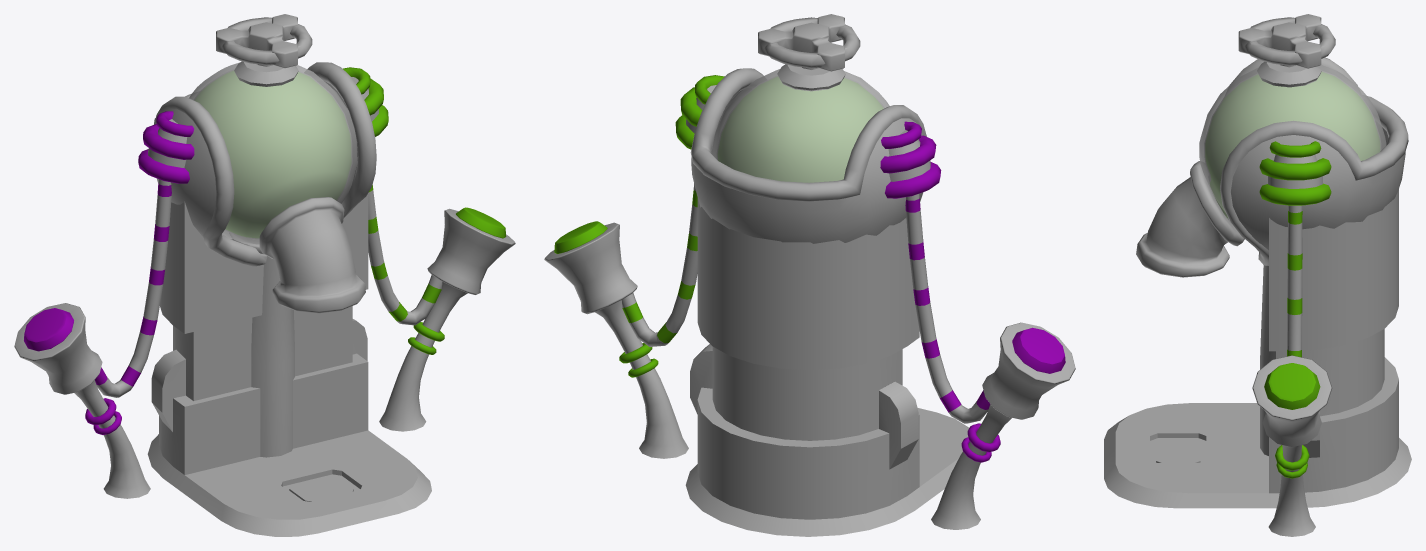
File: Env_Props_FlorpFiller_CW.fbx
3 views of the same model, side by side, from view 1: azimuth 30°, elevation 25°; view 2: azimuth 150°, elevation 25°; view 3: azimuth 270°, elevation 25° (orthographic). The views are drawn at different scales.
Parts seen in each view (by area): view 1: Props_FlorpFiller_Base, Props_FlorpFiller_Florp_Tank, Props_FlorpFiller_Button_Panel_B, Props_FlorpFiller_Button_Panel_A, Props_FlorpFiller_Valve, Props_FlorpFiller_Button_Cable_A, Props_FlorpFiller_Button_Cable_B, Props_FlorpFiller_Button_A, Props_FlorpFiller_Button_B; view 2: Props_FlorpFiller_Base, Props_FlorpFiller_Florp_Tank, Props_FlorpFiller_Button_Panel_B, Props_FlorpFiller_Button_Panel_A, Props_FlorpFiller_Valve, Props_FlorpFiller_Button_Cable_A, Props_FlorpFiller_Button_Cable_B, Props_FlorpFiller_Button_A, Props_FlorpFiller_Button_B; view 3: Props_FlorpFiller_Base, Props_FlorpFiller_Florp_Tank, Props_FlorpFiller_Button_Panel_B, Props_FlorpFiller_Valve, Props_FlorpFiller_Button_Cable_B, Props_FlorpFiller_Button_B.
Boxes of the visible parts, left/top/right/bottom form: Props_FlorpFiller_Base: left=138, top=61, right=431, bottom=536; Props_FlorpFiller_Florp_Tank: left=189, top=62, right=357, bottom=244; Props_FlorpFiller_Button_Panel_B: left=379, top=208, right=515, bottom=431; Props_FlorpFiller_Button_Panel_A: left=14, top=303, right=150, bottom=498; Props_FlorpFiller_Valve: left=216, top=14, right=312, bottom=68; Props_FlorpFiller_Button_Cable_A: left=95, top=179, right=171, bottom=397; Props_FlorpFiller_Button_Cable_B: left=368, top=185, right=442, bottom=325; Props_FlorpFiller_Button_A: left=24, top=308, right=73, bottom=351; Props_FlorpFiller_Button_B: left=456, top=207, right=506, bottom=238; Props_FlorpFiller_Base: left=675, top=64, right=968, bottom=536; Props_FlorpFiller_Florp_Tank: left=711, top=69, right=889, bottom=182; Props_FlorpFiller_Button_Panel_B: left=544, top=222, right=688, bottom=458; Props_FlorpFiller_Button_Panel_A: left=931, top=322, right=1075, bottom=529; Props_FlorpFiller_Valve: left=758, top=14, right=860, bottom=71; Props_FlorpFiller_Button_Cable_A: left=905, top=193, right=990, bottom=423; Props_FlorpFiller_Button_Cable_B: left=621, top=183, right=697, bottom=346; Props_FlorpFiller_Button_A: left=1012, top=327, right=1065, bottom=373; Props_FlorpFiller_Button_B: left=554, top=221, right=607, bottom=253; Props_FlorpFiller_Base: left=1104, top=57, right=1411, bottom=508; Props_FlorpFiller_Florp_Tank: left=1199, top=65, right=1386, bottom=223; Props_FlorpFiller_Button_Panel_B: left=1252, top=355, right=1332, bottom=536; Props_FlorpFiller_Valve: left=1238, top=14, right=1335, bottom=68; Props_FlorpFiller_Button_Cable_B: left=1287, top=205, right=1302, bottom=357; Props_FlorpFiller_Button_B: left=1264, top=363, right=1320, bottom=409.
Size of the model in its own units: 355 by 296 by 192.
